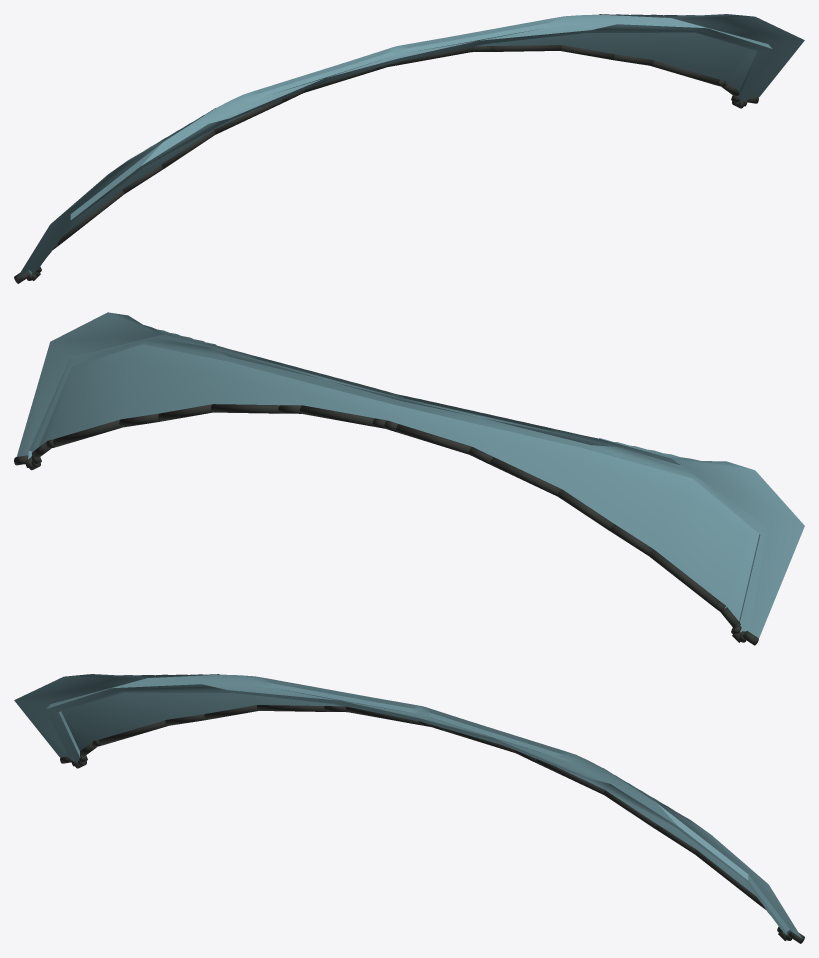
File: STAGE2_PART_009_RearEngineOpening.glb
3 views of the same model, one above another, from view 1: azimuth 30°, elevation 25°; view 2: azimuth 150°, elevation 25°; view 3: azimuth 330°, elevation 25° (orthographic).
Visible parts, largest first — view 1: BODY_Stage2_RearDeck_B_Body_Engine_Lid_Rear_0, TRIM_Stage2_RearDeck_B_Body_Engine_Lid_Rear_0; view 2: BODY_Stage2_RearDeck_B_Body_Engine_Lid_Rear_0, TRIM_Stage2_RearDeck_B_Body_Engine_Lid_Rear_0; view 3: BODY_Stage2_RearDeck_B_Body_Engine_Lid_Rear_0, TRIM_Stage2_RearDeck_B_Body_Engine_Lid_Rear_0.
Boxes of the visible parts, x1=… form: BODY_Stage2_RearDeck_B_Body_Engine_Lid_Rear_0: x1=16, y1=14, x2=804, y2=278; TRIM_Stage2_RearDeck_B_Body_Engine_Lid_Rear_0: x1=14, y1=45, x2=758, y2=283; BODY_Stage2_RearDeck_B_Body_Engine_Lid_Rear_0: x1=16, y1=312, x2=804, y2=638; TRIM_Stage2_RearDeck_B_Body_Engine_Lid_Rear_0: x1=14, y1=404, x2=758, y2=645; BODY_Stage2_RearDeck_B_Body_Engine_Lid_Rear_0: x1=14, y1=674, x2=802, y2=938; TRIM_Stage2_RearDeck_B_Body_Engine_Lid_Rear_0: x1=60, y1=705, x2=804, y2=943.
Size of the model in its own units: 0.8151 by 0.1602 by 0.0883.
